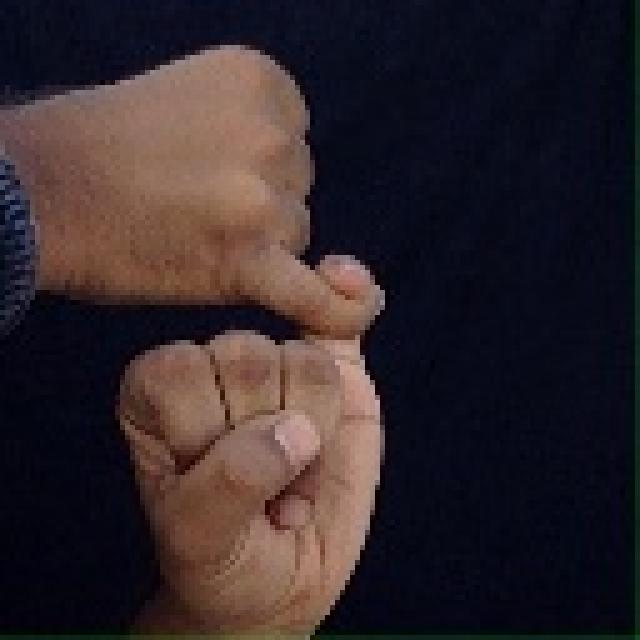Alphabet-S: (1, 40, 387, 639)
